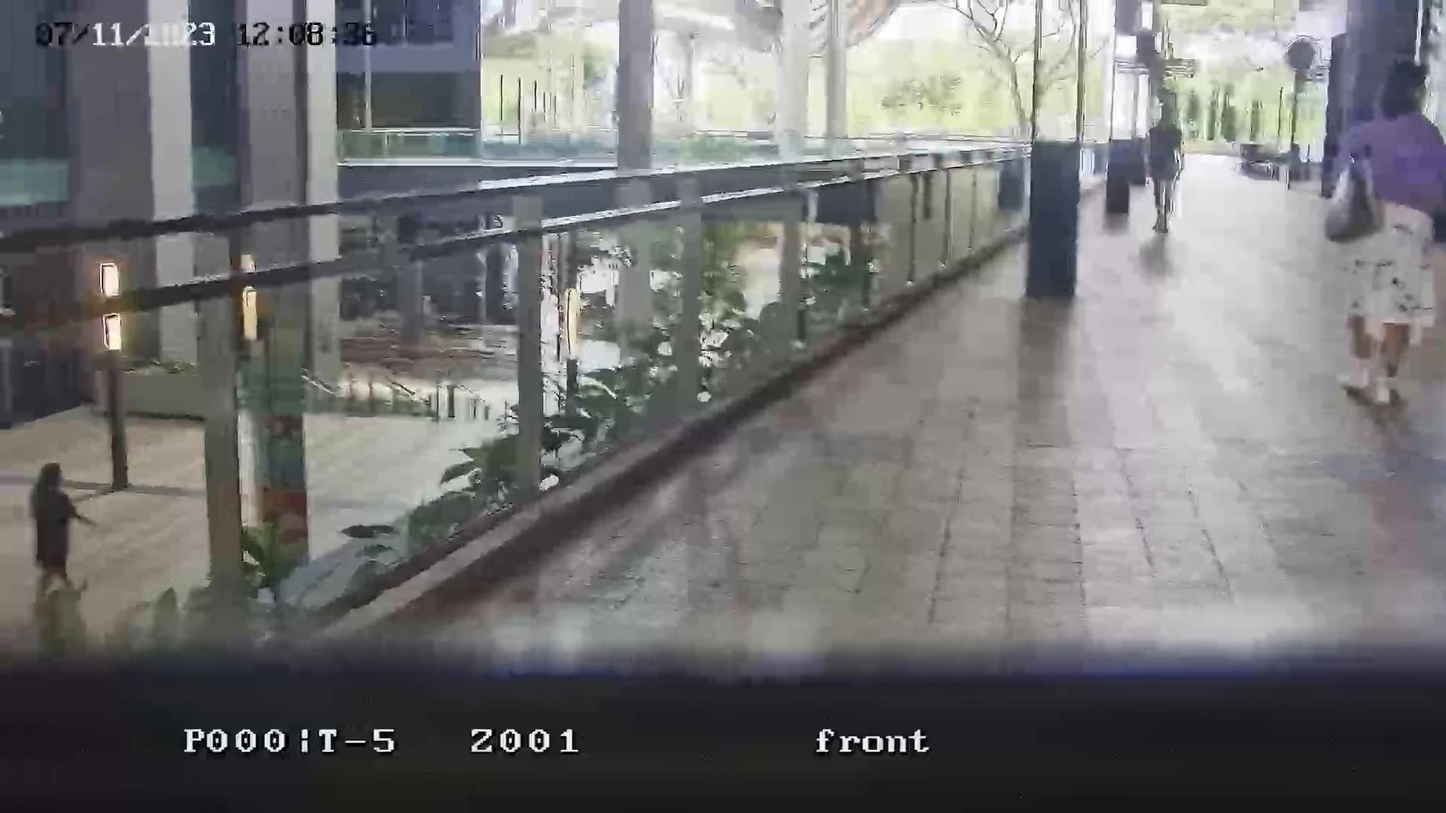person: (1335, 56, 1445, 408), (29, 462, 96, 596), (1142, 107, 1185, 233)
